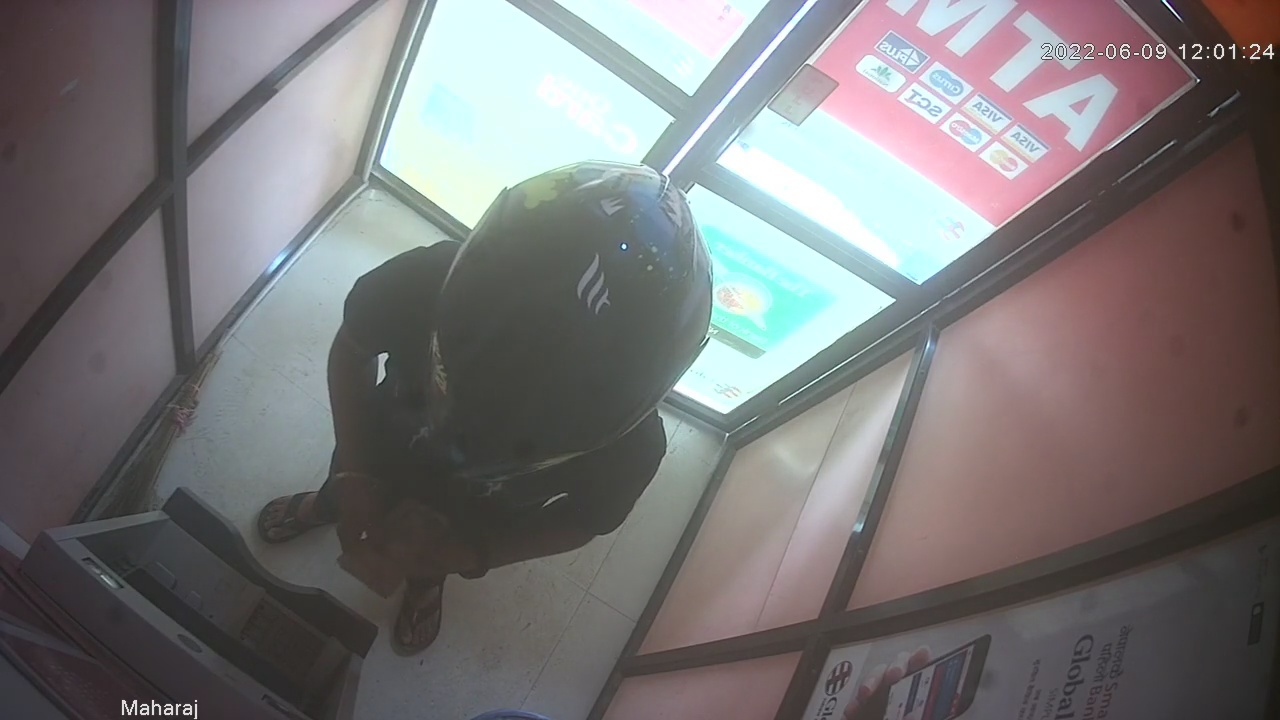helmet: (420, 159, 711, 484)
person: (256, 155, 713, 661)
